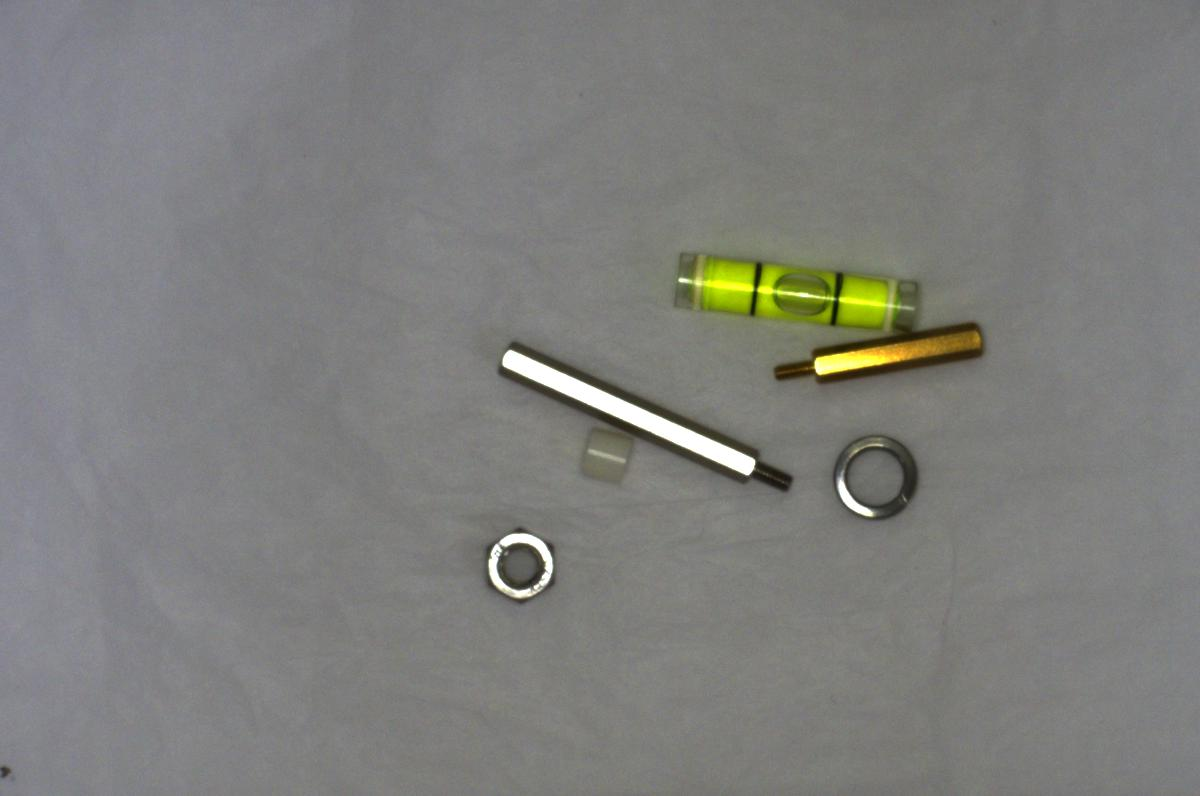Hexagon nut: (469, 519, 565, 614)
Hexagon pillar: (761, 317, 1007, 398)
Hexagonal steel column: (494, 348, 797, 500)
Horizontal bubble: (655, 226, 929, 335)
Plastic cushion pillar: (570, 422, 641, 491)
Spring washer: (828, 426, 917, 524)
